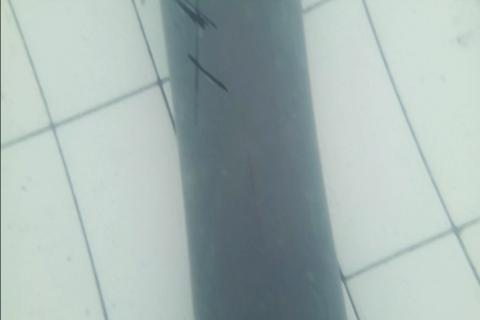kebocoran: (172, 0, 229, 127)
